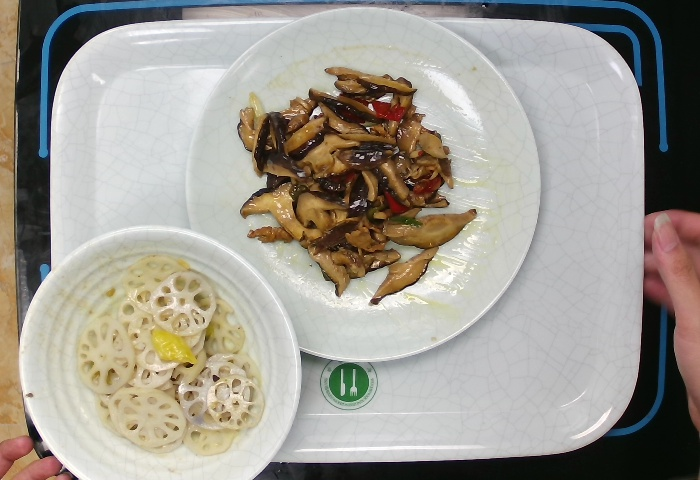JYsf-Da_Yuan_Pan: (180, 6, 538, 366)
JYsf-Xiao_Tang_Wan: (11, 221, 301, 480)
